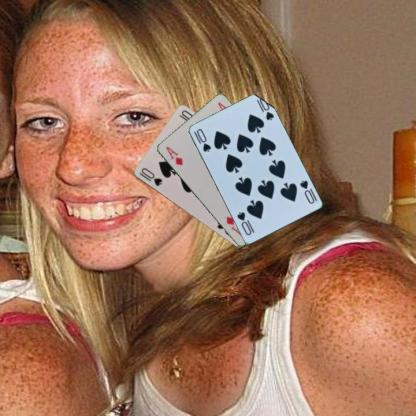10s: (136, 165, 164, 187), (191, 126, 212, 153), (297, 177, 315, 205)
Ad: (163, 144, 184, 166)
